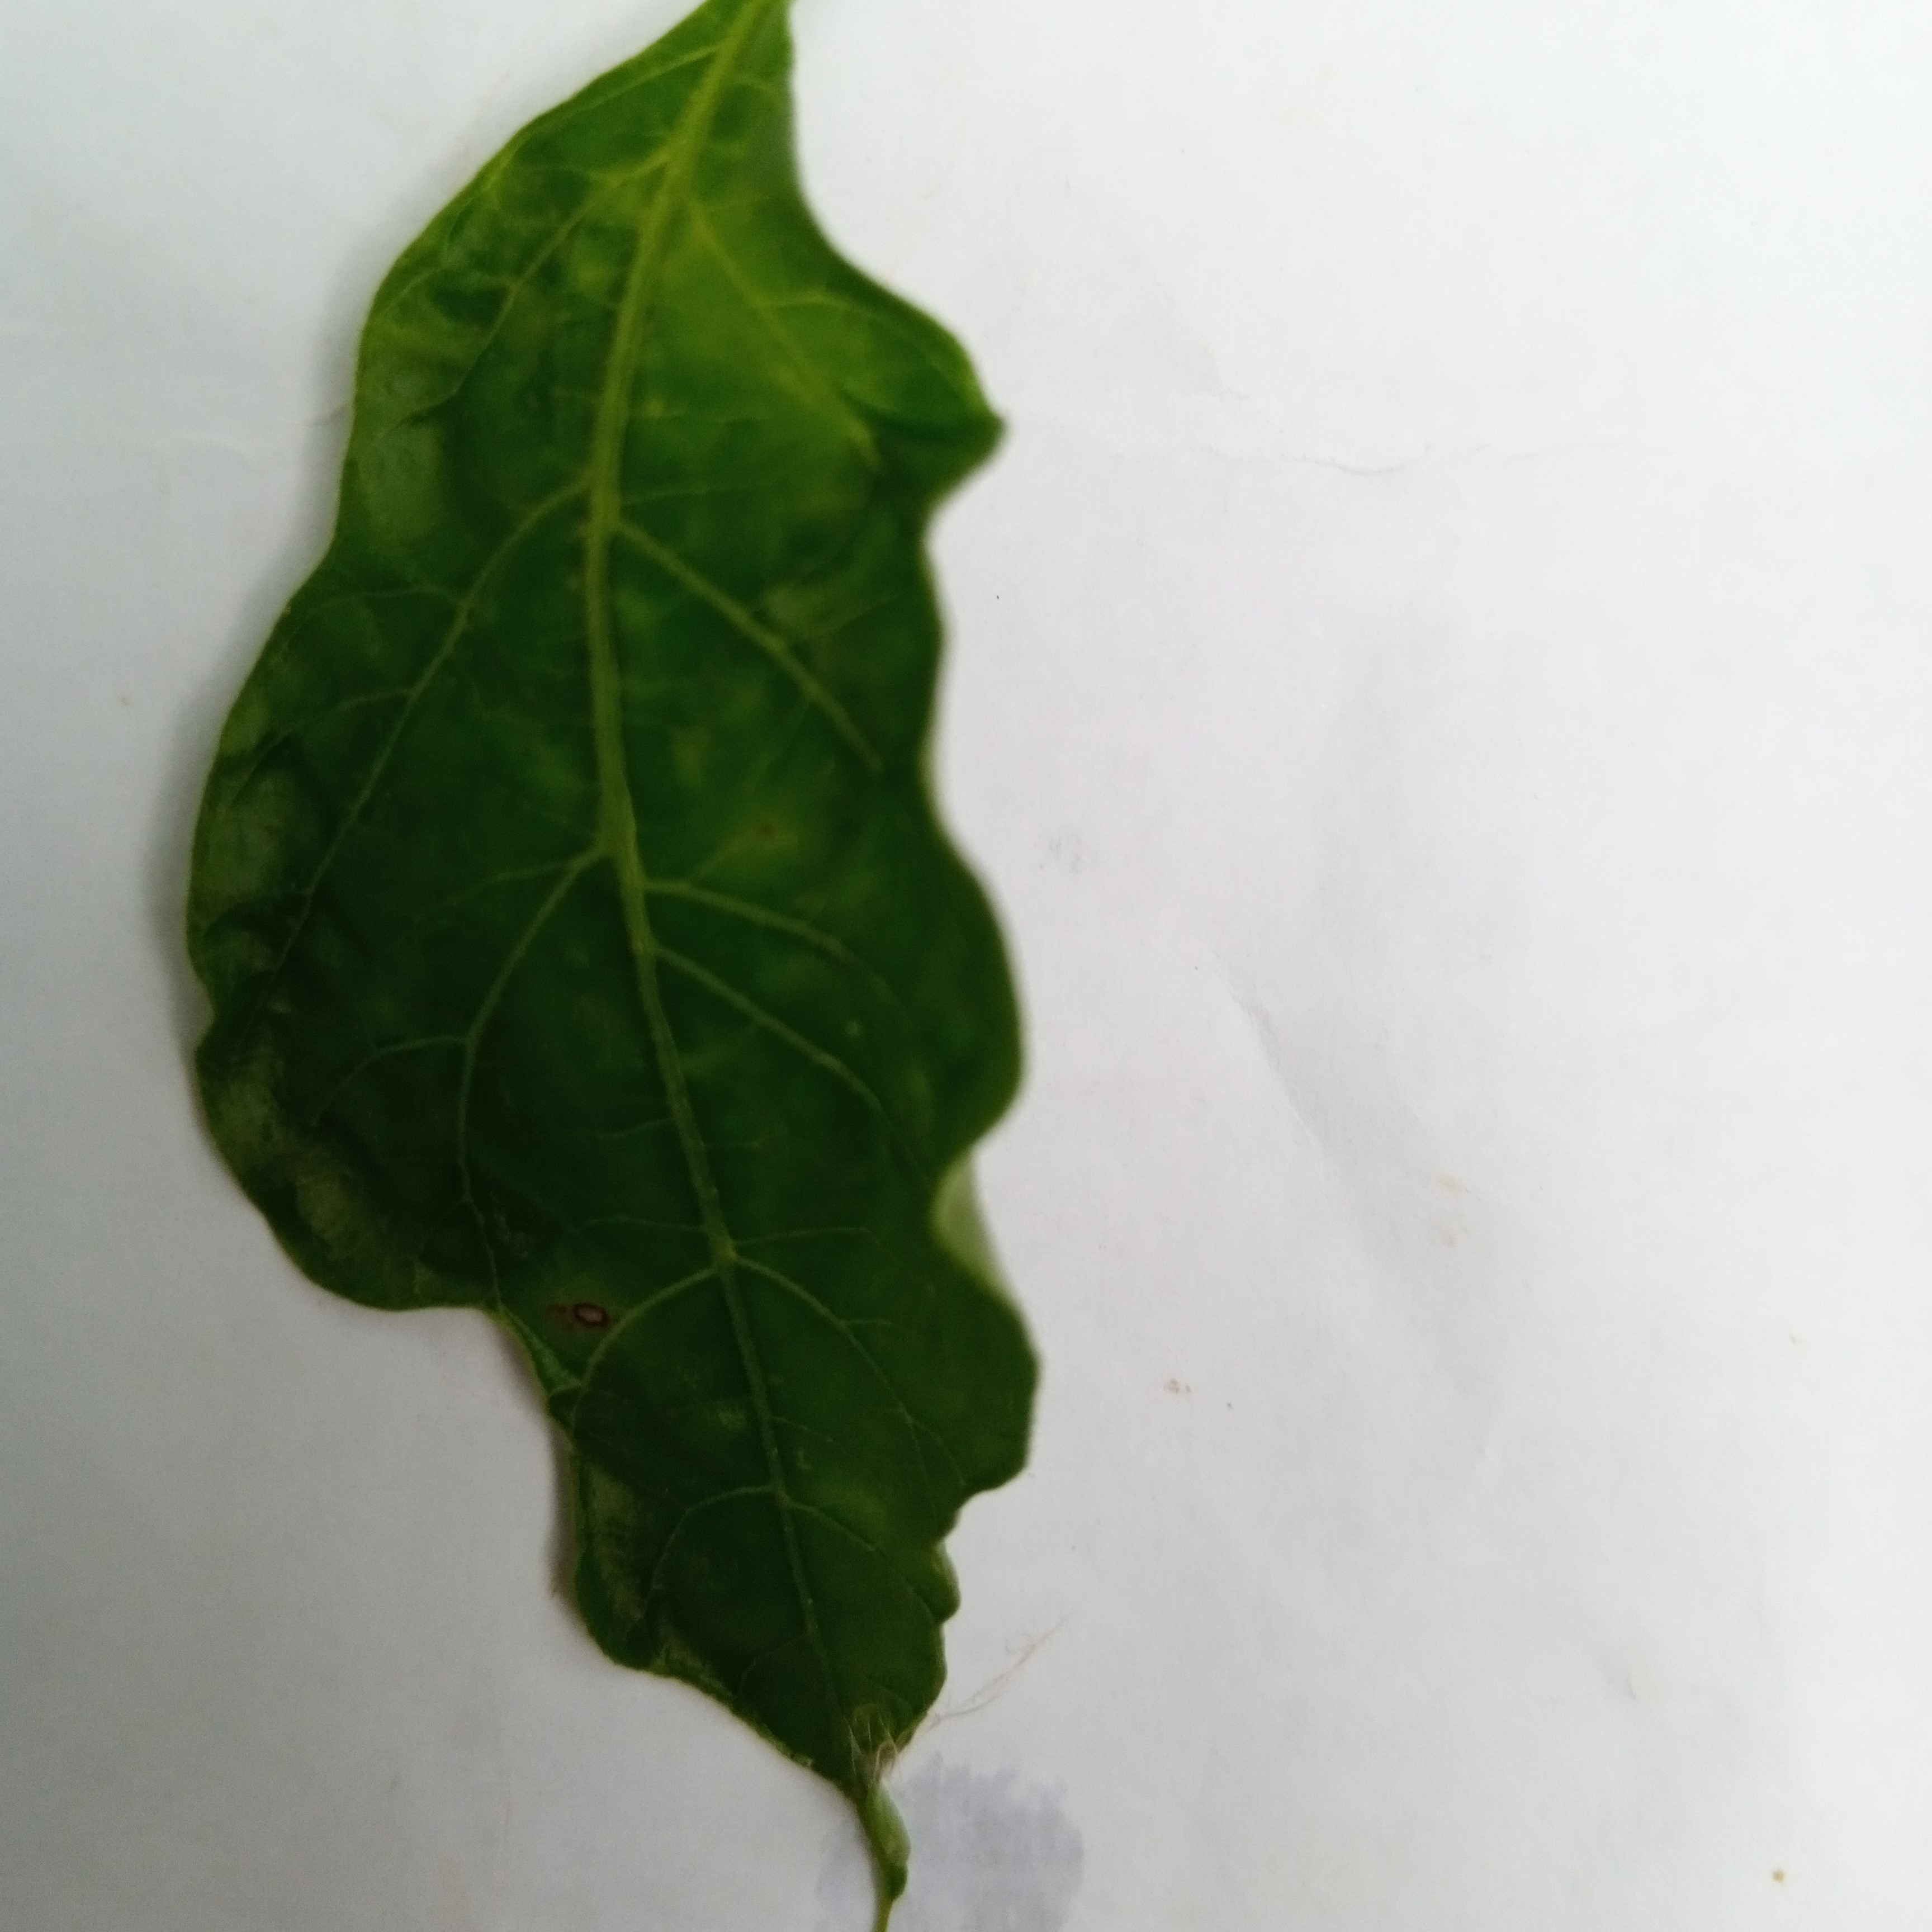Leaf: (142, 12, 1185, 1932)
